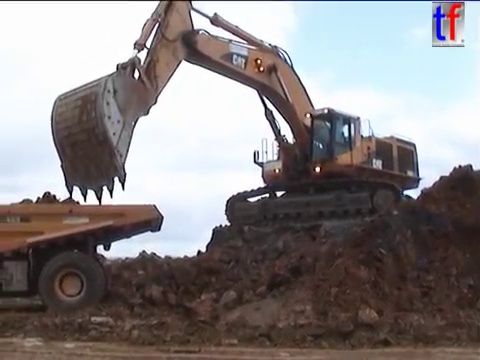excavator: (47, 1, 425, 234)
truck: (1, 198, 168, 318)
